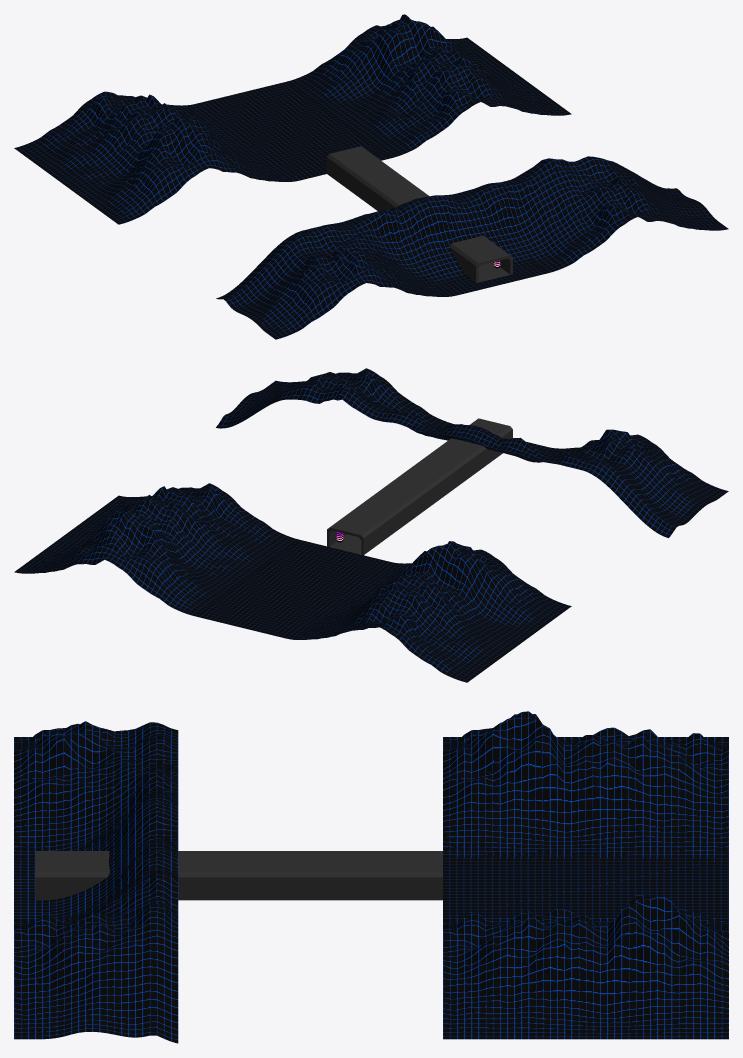
Rendered from bgtunnel.dae.
3 views of the same model, one above another, from view 1: azimuth 30°, elevation 25°; view 2: azimuth 150°, elevation 25°; view 3: azimuth 270°, elevation 25° (orthographic). The views are drawn at different scales.
Visible parts, largest first — view 1: Landscape, tunnel; view 2: Landscape, tunnel; view 3: Landscape, tunnel.
Boxes of the visible parts, <box> form: Landscape: <box>14,14,728,339</box>; tunnel: <box>327,146,512,282</box>; Landscape: <box>14,368,728,682</box>; tunnel: <box>327,418,512,555</box>; Landscape: <box>14,711,728,1043</box>; tunnel: <box>35,851,442,900</box>.
Size of the model in its own units: 100 by 100 by 13.99.
